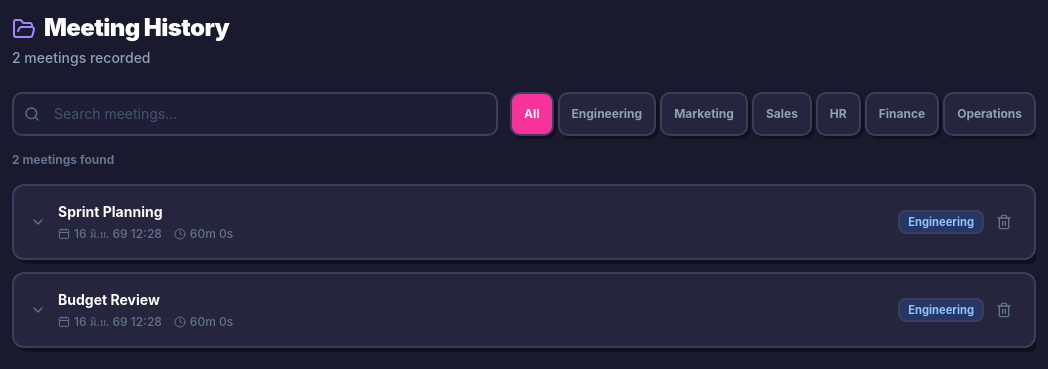
Test: MeetingHistory Component › Search › should filter meetings by search query
In the field with placeholder "Search meetings...": (255, 114) left=12, top=92, right=498, bottom=136, type "Sprint"
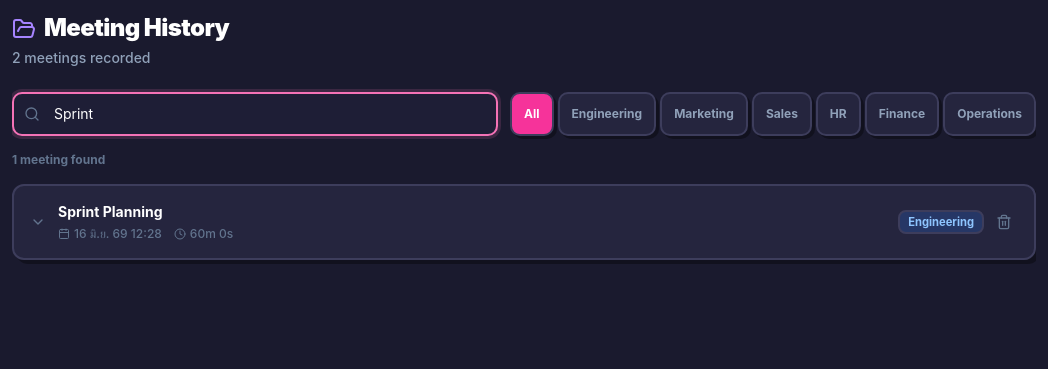
Expected: the text "Sprint Planning" is shown, left=58, top=203, right=162, bottom=220
Now the button "Budget Review" is gone
